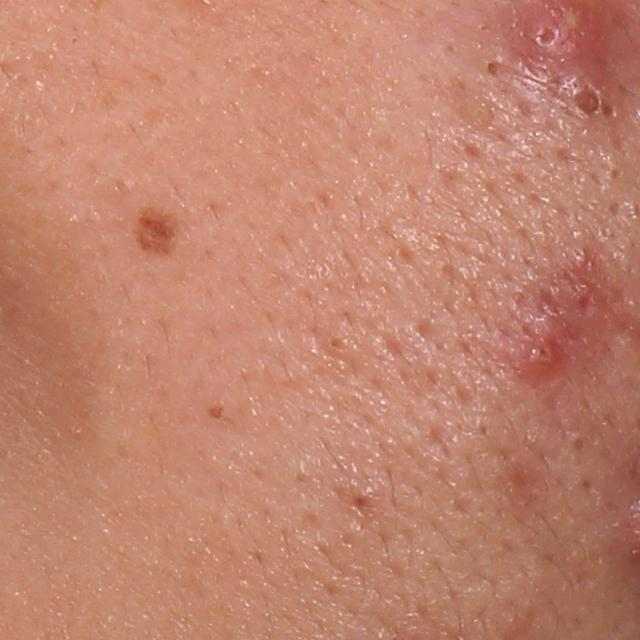comedo: (323, 331, 351, 356), (479, 53, 503, 81), (207, 402, 230, 424), (567, 433, 588, 453), (605, 161, 624, 183)
nevus: (127, 197, 176, 271)
papule: (557, 75, 614, 127), (562, 278, 607, 327)
